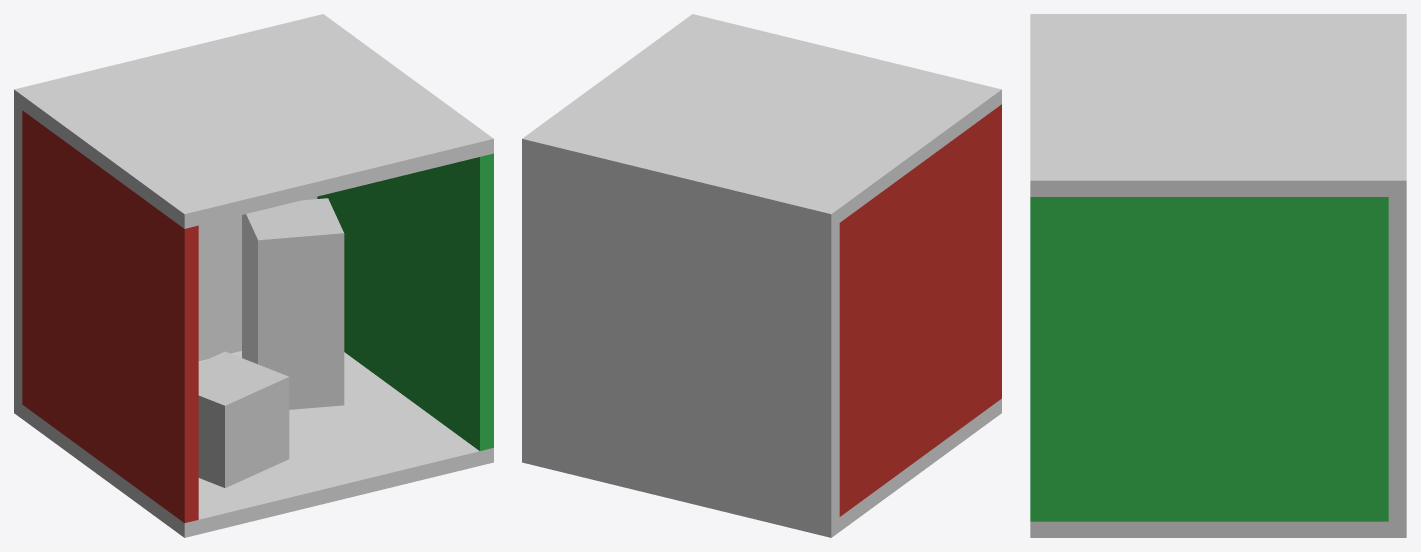
The model's file is CornellBox.gltf.
The picture shows the model from 3 angles, left to right: view 1: azimuth 30°, elevation 25°; view 2: azimuth 150°, elevation 25°; view 3: azimuth 270°, elevation 25°; orthographic projection. The views are drawn at different scales.
Visible parts, largest first — view 1: Ceiling, Left Wall, Right Wall, Floor, Tall Block, Short Block, Back Wall; view 2: Back Wall, Ceiling, Left Wall, Floor; view 3: Right Wall, Ceiling, Floor, Back Wall.
Part boxes in pixels (x1,y1,x2,y2): Ceiling: [14, 14, 493, 228]; Left Wall: [22, 110, 198, 523]; Right Wall: [317, 153, 493, 450]; Floor: [14, 351, 493, 537]; Tall Block: [242, 198, 344, 409]; Short Block: [198, 351, 289, 487]; Back Wall: [14, 104, 317, 403]; Back Wall: [522, 153, 839, 523]; Ceiling: [522, 14, 1001, 228]; Left Wall: [839, 104, 1001, 516]; Floor: [522, 398, 1001, 537]; Right Wall: [1030, 197, 1388, 521]; Ceiling: [1030, 14, 1406, 196]; Floor: [1030, 521, 1406, 537]; Back Wall: [1388, 197, 1406, 521].
Bounding box in the file's own units: 2.2 × 2.2 × 2.1.
